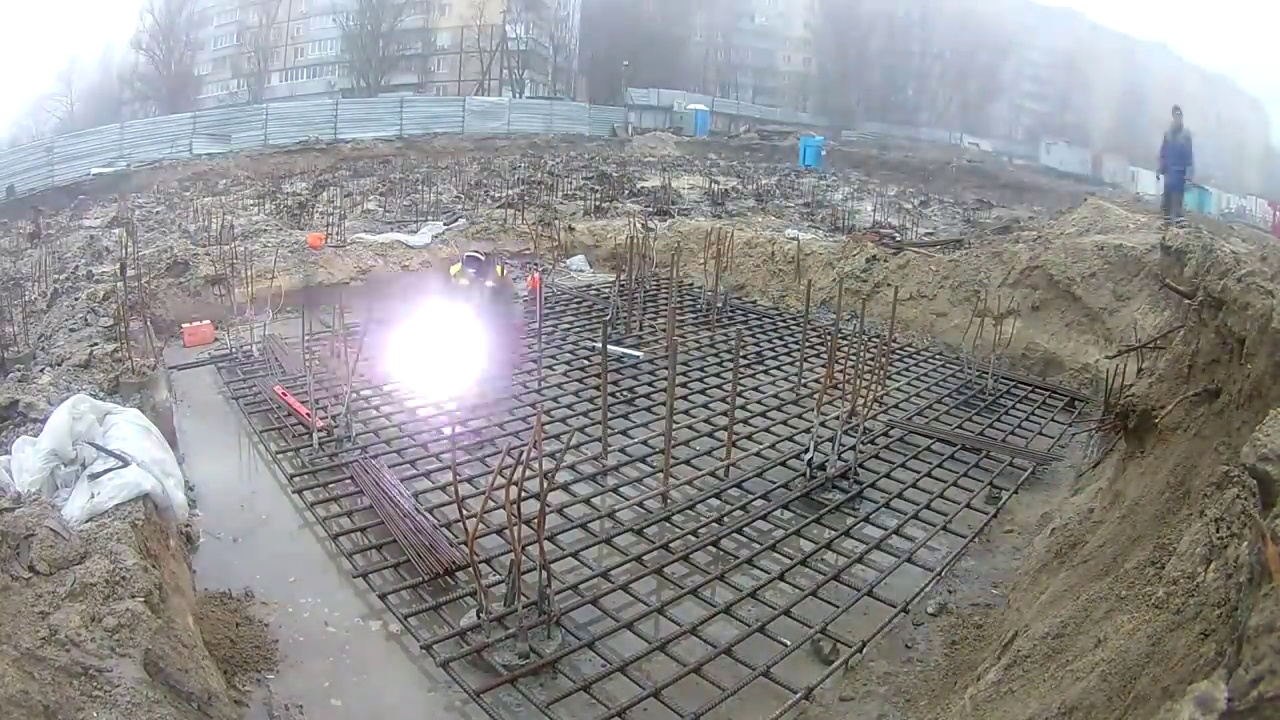helmet: (526, 271, 542, 300)
helmet-off: (460, 250, 489, 286), (1171, 104, 1183, 127)
person: (443, 251, 518, 363), (1151, 104, 1195, 231)
